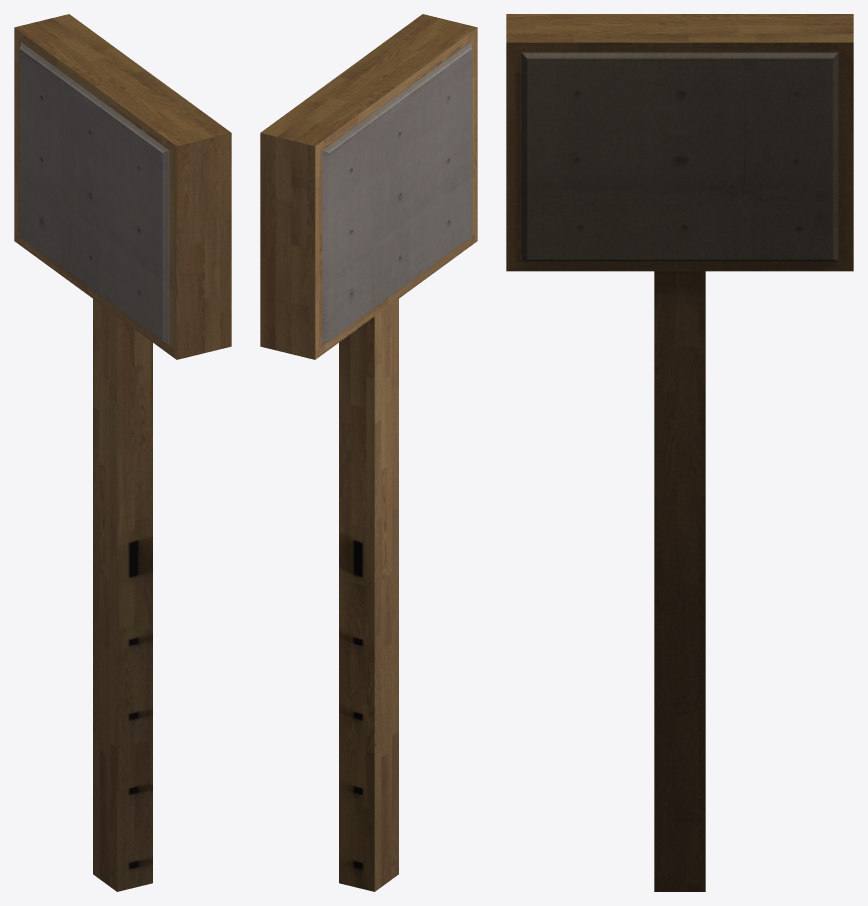
File: snowcontrolpanel.obj
3 views of the same model, side by side, from view 1: azimuth 30°, elevation 25°; view 2: azimuth 150°, elevation 25°; view 3: azimuth 270°, elevation 25° (orthographic). The views are drawn at different scales.
Parts seen in each view (by area): view 1: snowControlPanel; view 2: snowControlPanel; view 3: snowControlPanel.
Boxes of the visible parts, left/top/right/bottom form: snowControlPanel: left=14, top=14, right=231, bottom=891; snowControlPanel: left=260, top=14, right=477, bottom=891; snowControlPanel: left=506, top=14, right=853, bottom=891.
Size of the model in its own units: 0.1465 by 1.76 by 0.6472.
Materials: 1 (1 with a texture image).
